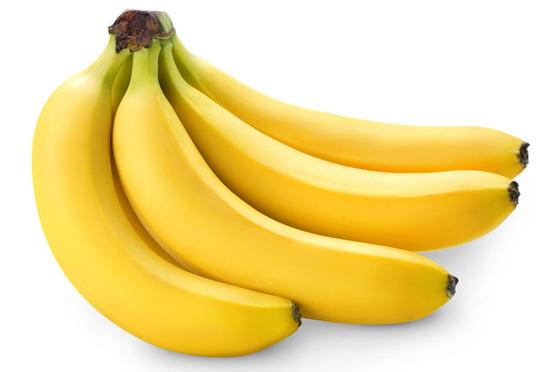banana: (24, 33, 280, 365), (169, 31, 547, 174)
